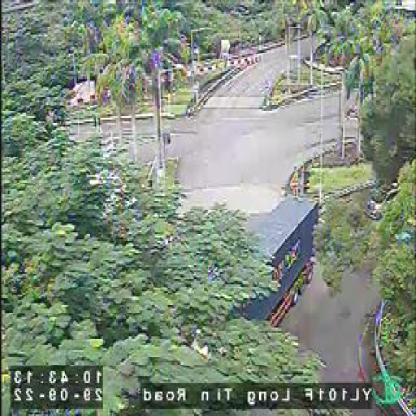Truck: (221, 198, 321, 328)
